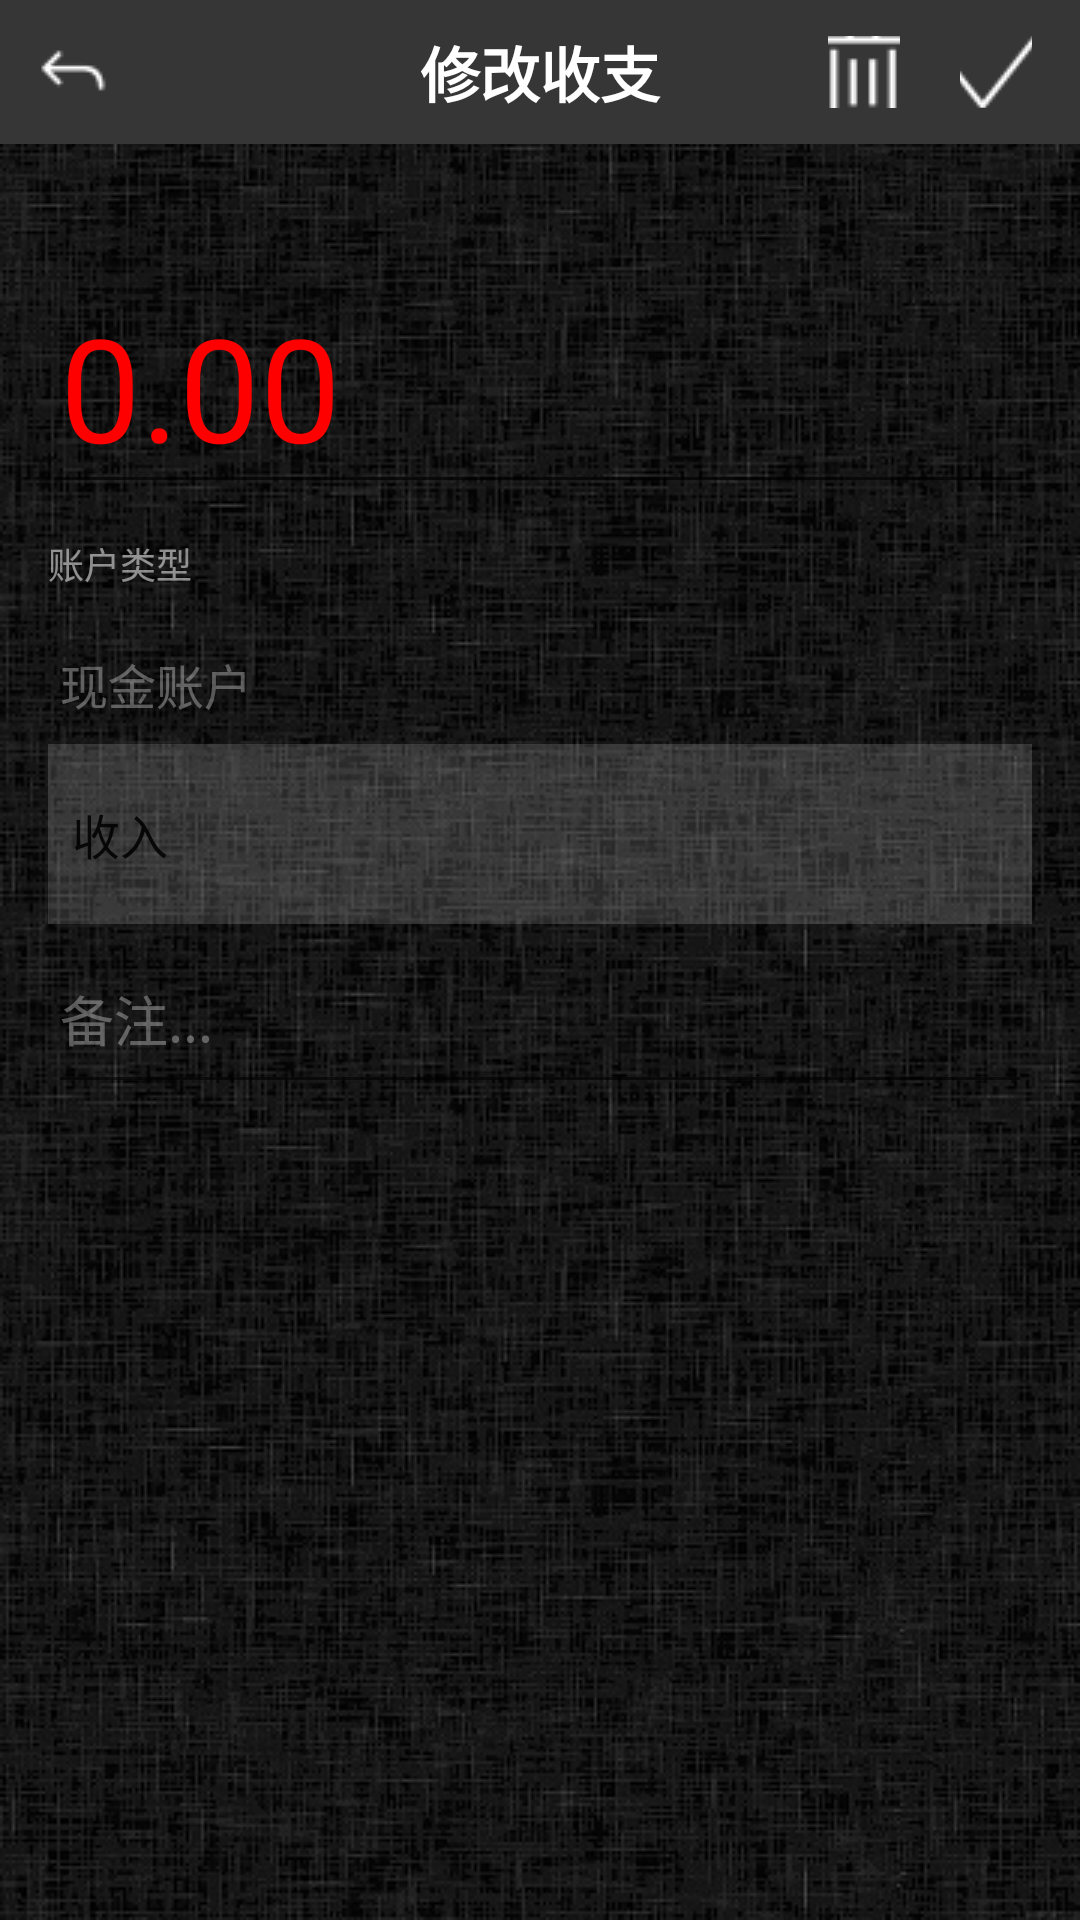

Screen size 1080px x 1920px. Icon name, then its center in pixels as [x,y]:
arrow back: [73,70]
arrows check: [996,72]
delete: [864,72]
